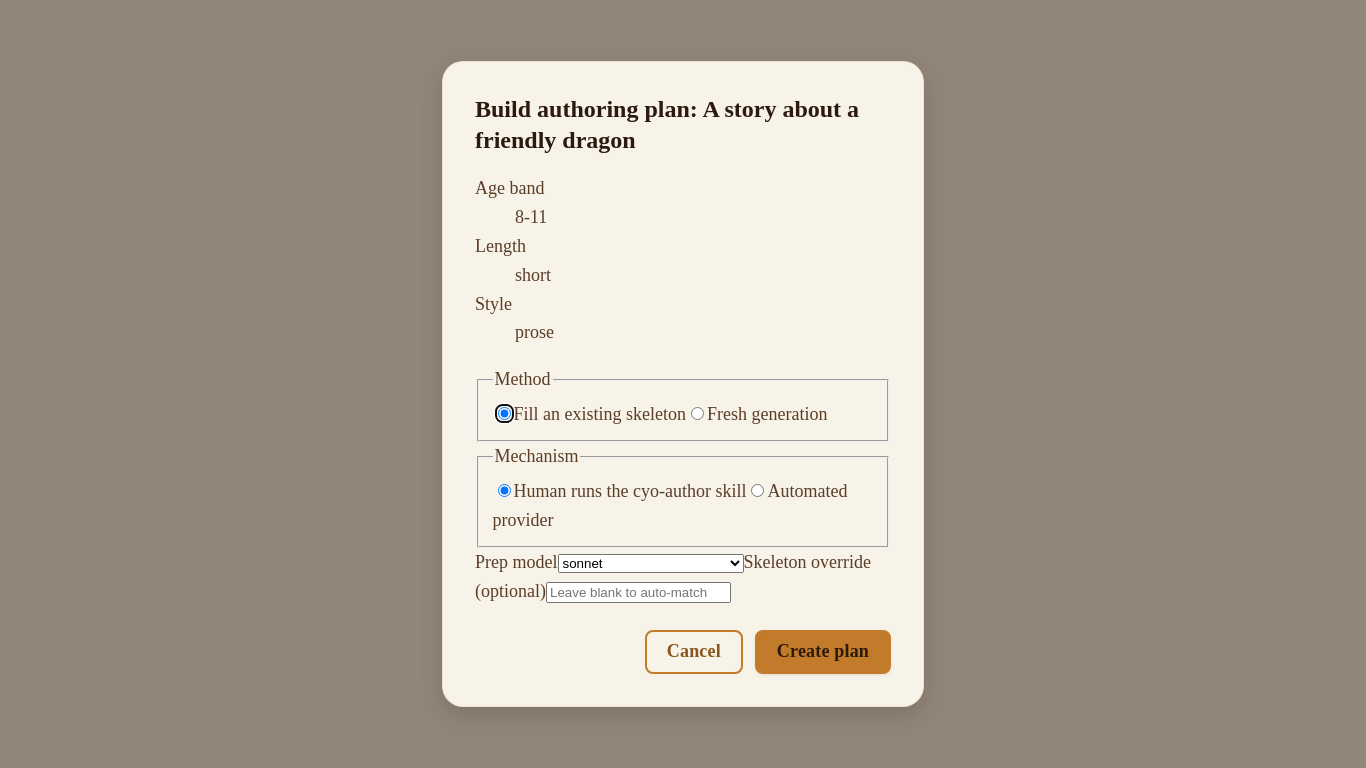
Test: AuthoringPlanDialog › disables the skill mechanism once fresh generation is chosen
Click the radio button labelled "Fresh generation": {"x": 698, "y": 414} [691, 407, 704, 420]
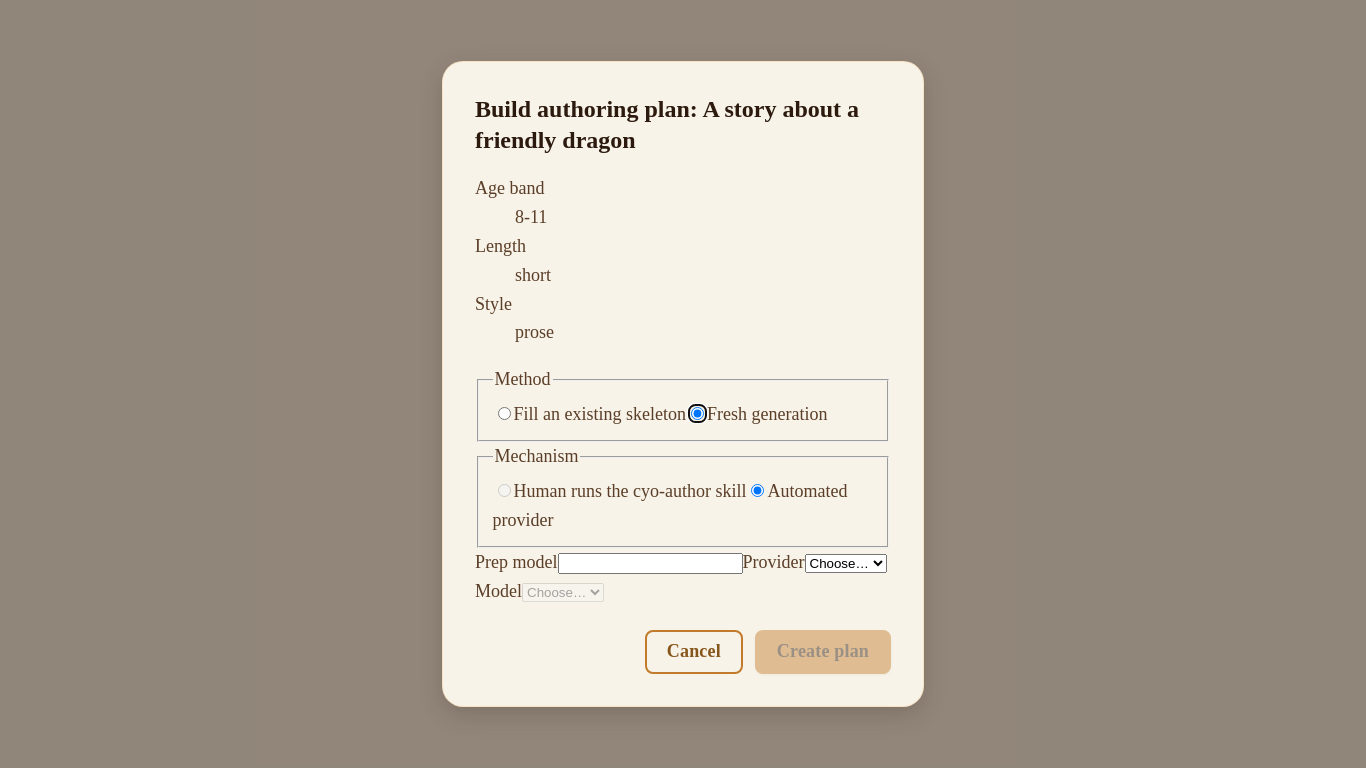
Check: the radio button labelled "Human runs the cyo-author skill" is disabled, box [498, 484, 510, 498]
Check: the radio button labelled "Automated provider" is checked, box [752, 484, 764, 498]
